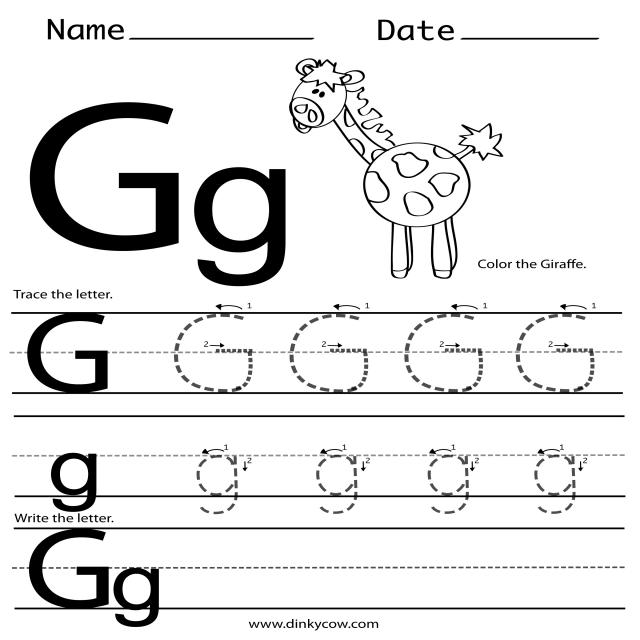G: (20, 78, 189, 274)
